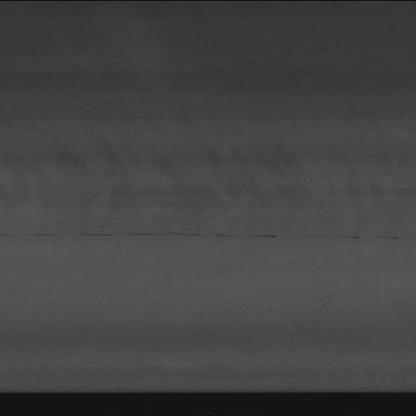inclusion: (14, 226, 394, 249)
